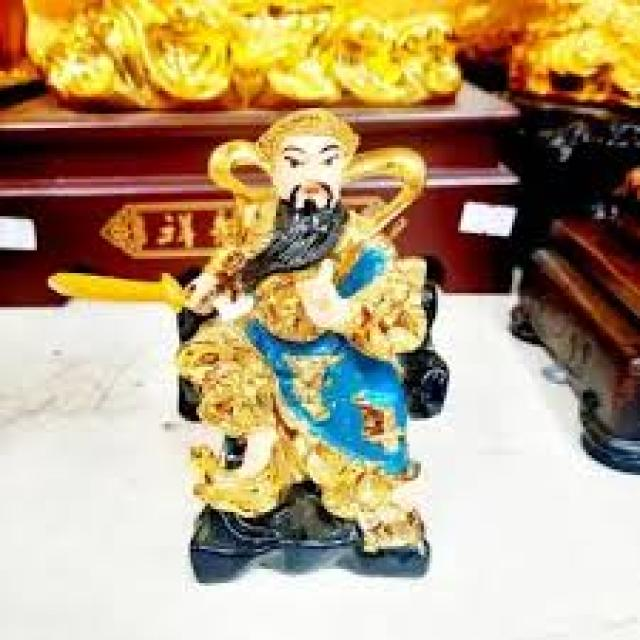Xuan wu: (183, 102, 402, 511)
